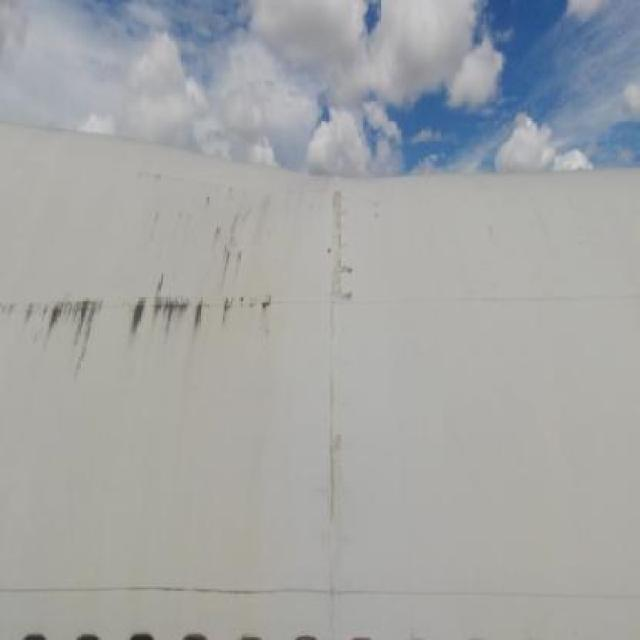Scartch: (0, 236, 289, 389)
